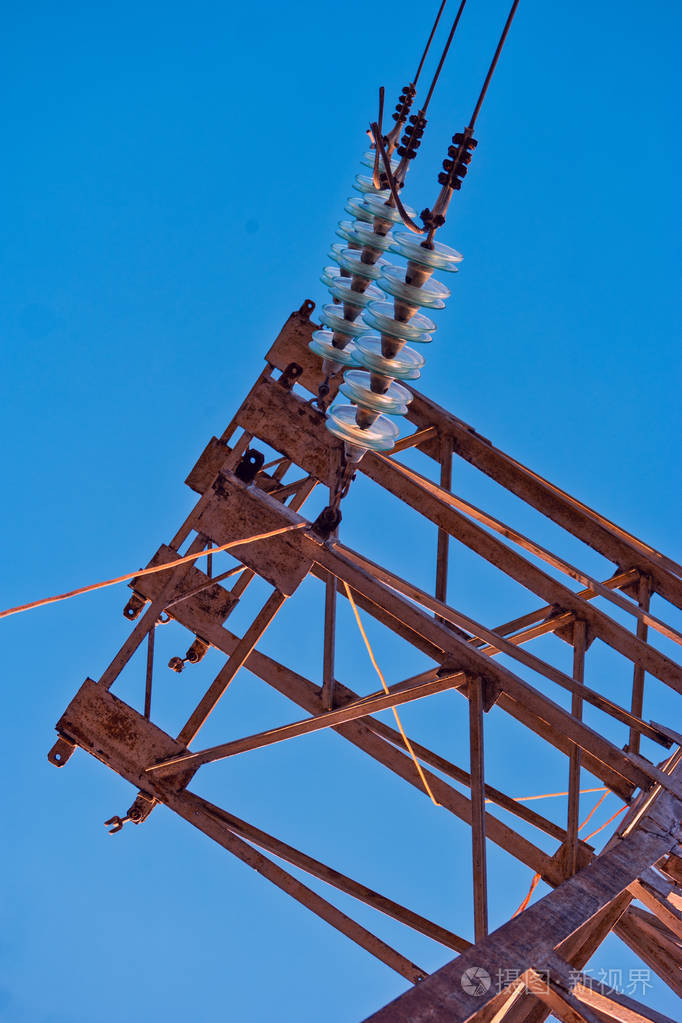insulator: (330, 225, 453, 449), (312, 192, 406, 370), (322, 154, 396, 286)
